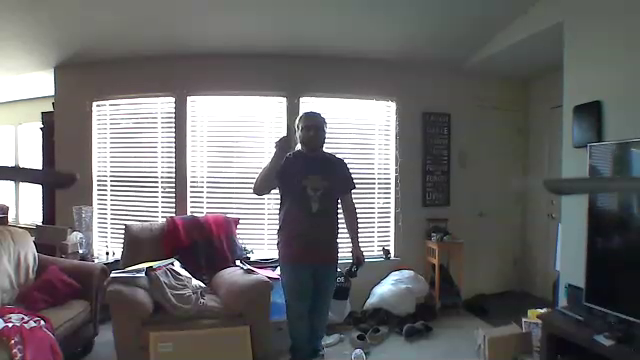up: (272, 122, 297, 158)
